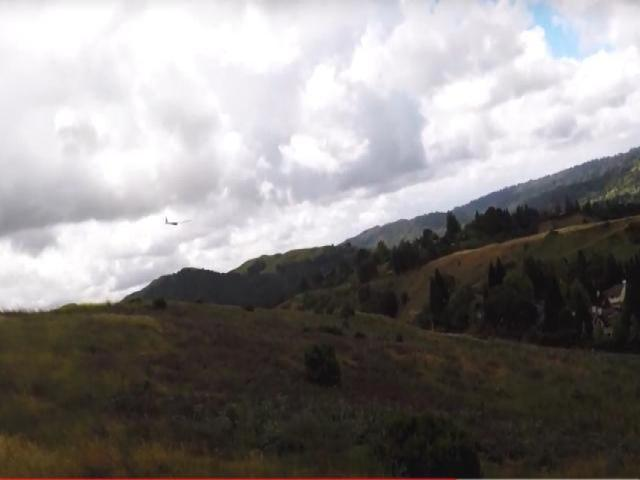iha: (161, 217, 191, 230)
